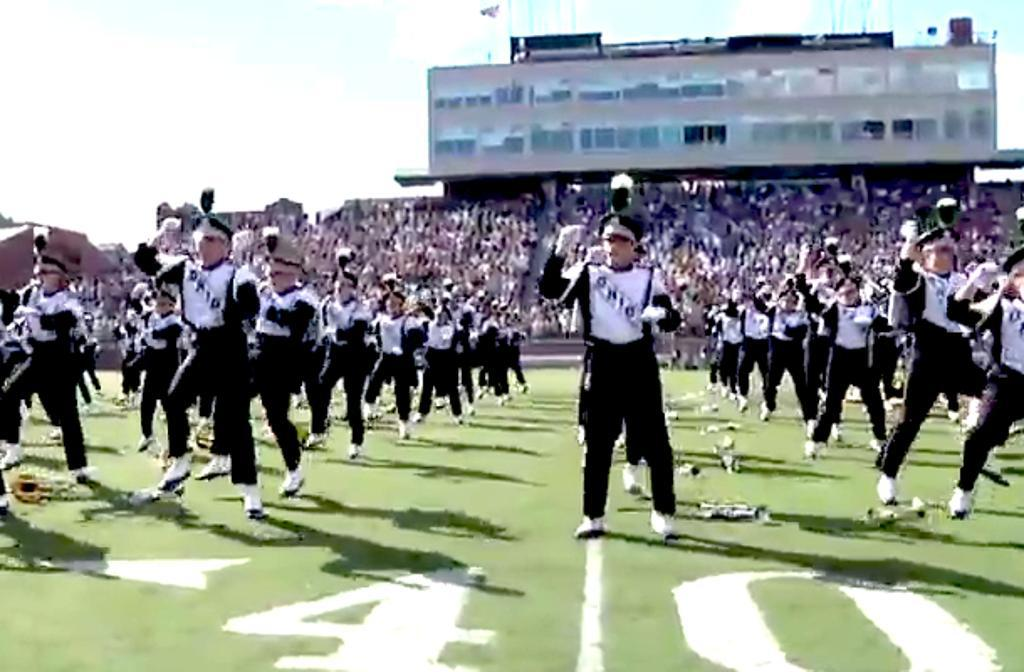face: (604, 238, 632, 263), (195, 227, 219, 255), (270, 269, 290, 292), (930, 249, 953, 269), (38, 267, 56, 290), (841, 289, 858, 305), (335, 281, 349, 299), (155, 299, 170, 315), (1014, 269, 1024, 291), (386, 298, 397, 313), (823, 270, 833, 283), (781, 299, 793, 309), (410, 310, 420, 322), (438, 313, 446, 324), (387, 282, 394, 290)
